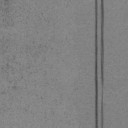surface scratch: (94, 0, 98, 128), (101, 0, 104, 86), (101, 99, 104, 128)
